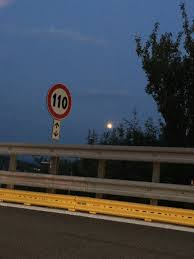Speed_limit_110km: (46, 83, 73, 120)
